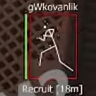hacks_3: (22, 1, 82, 96)
